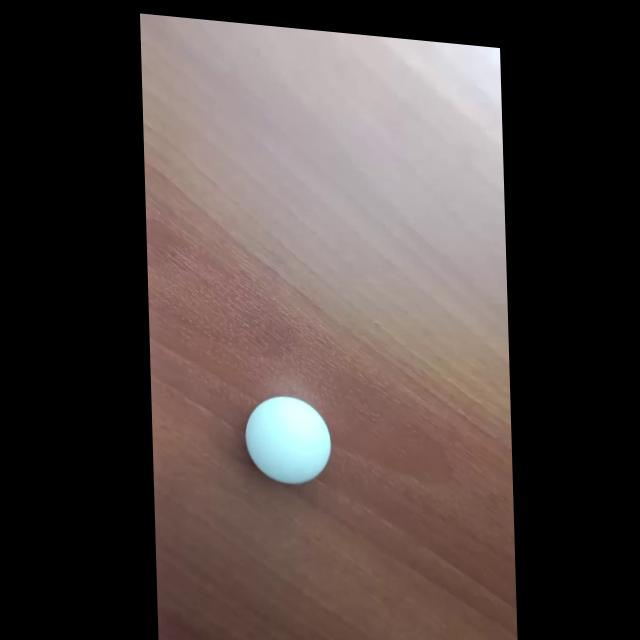white ball: (243, 391, 333, 490)
